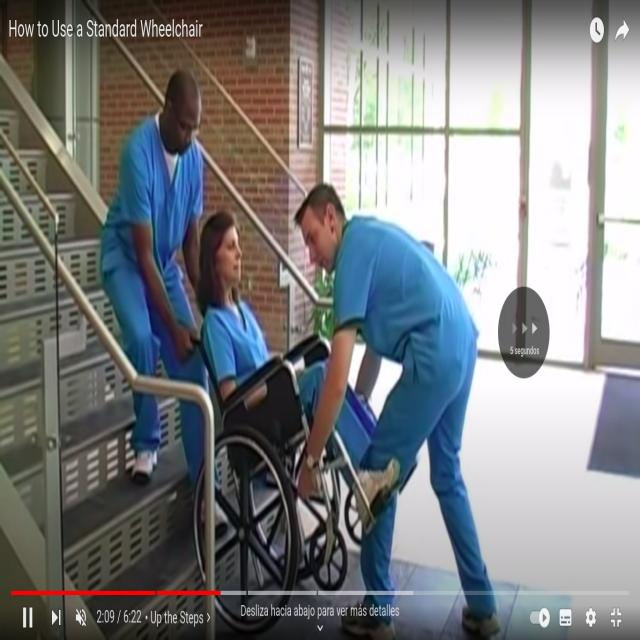wheelchairs: (176, 313, 396, 585)
